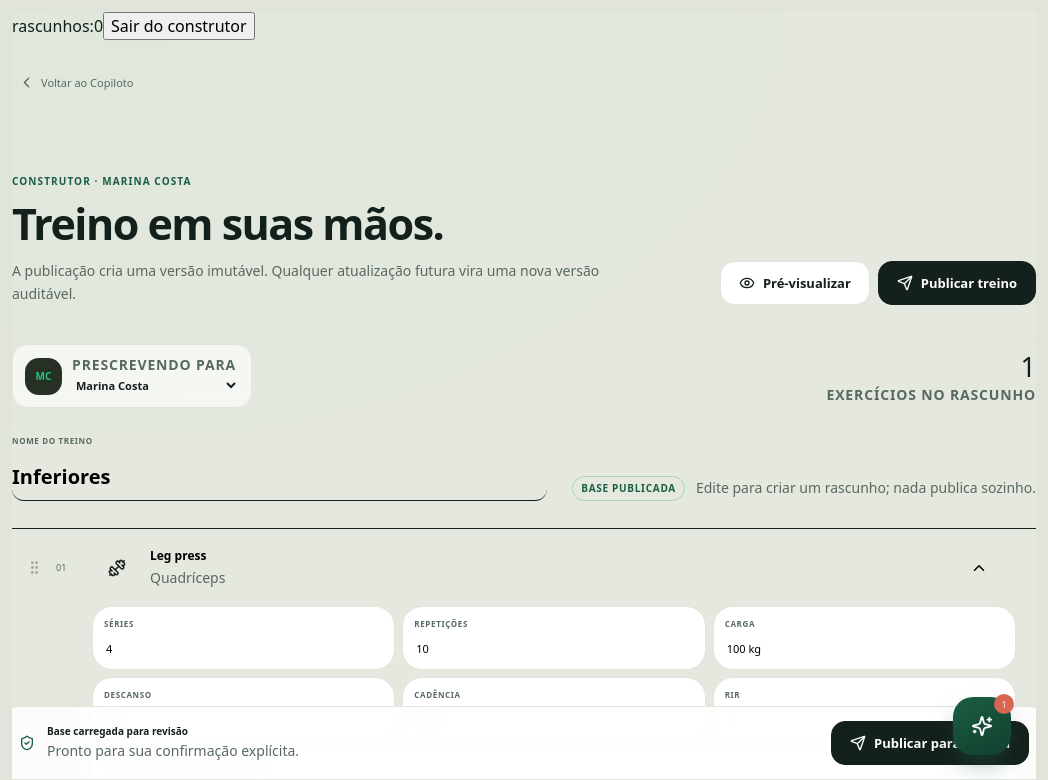
Test: live workout builder copilot › keeps independent drafts while the trainer switches between students
Replace the text in the field labelled "Carga" with "82 kg" at (864, 648), box [725, 640, 1004, 657]
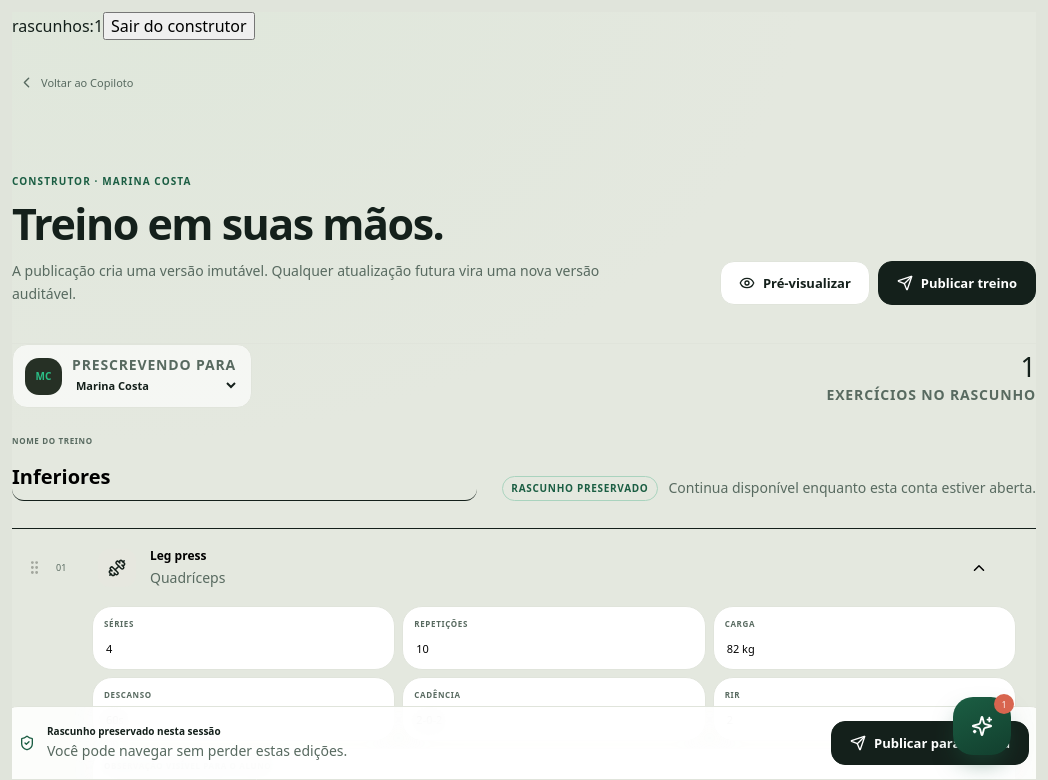
Select "Bianca Souza" in the dropdown at (156, 386), box [72, 374, 239, 397]
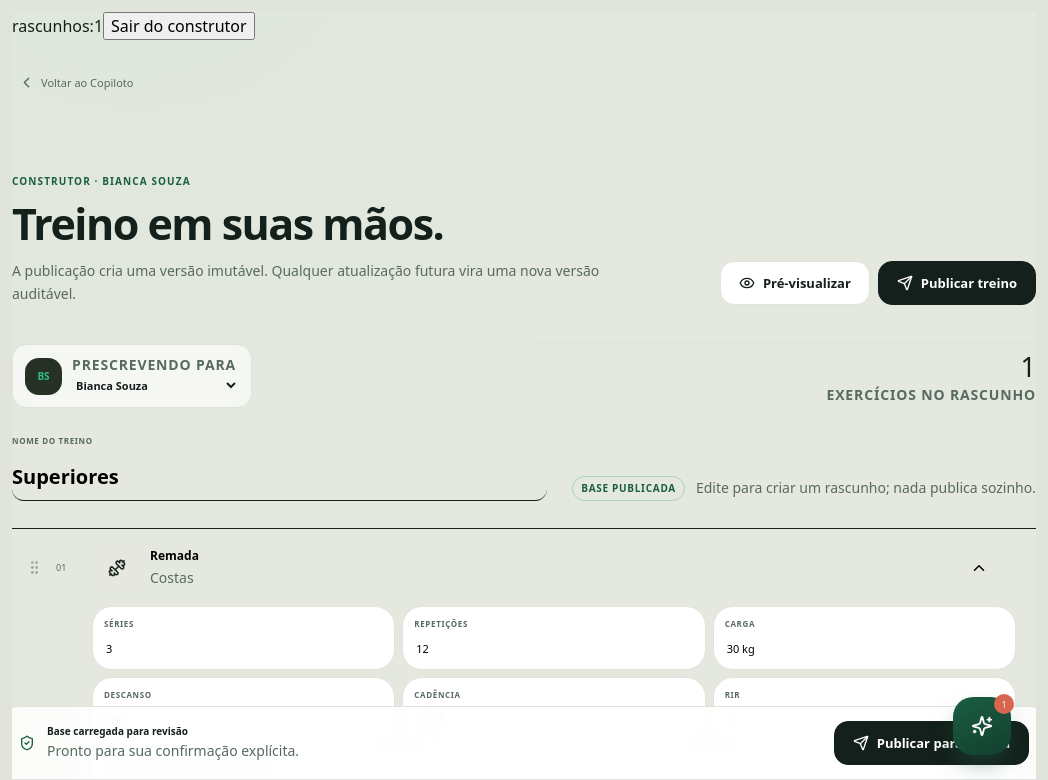
expect the field showing "30 kg" is shown: met
Replace the text in the field labelled "Carga" with "24 kg" at (864, 648), box [725, 640, 1004, 657]
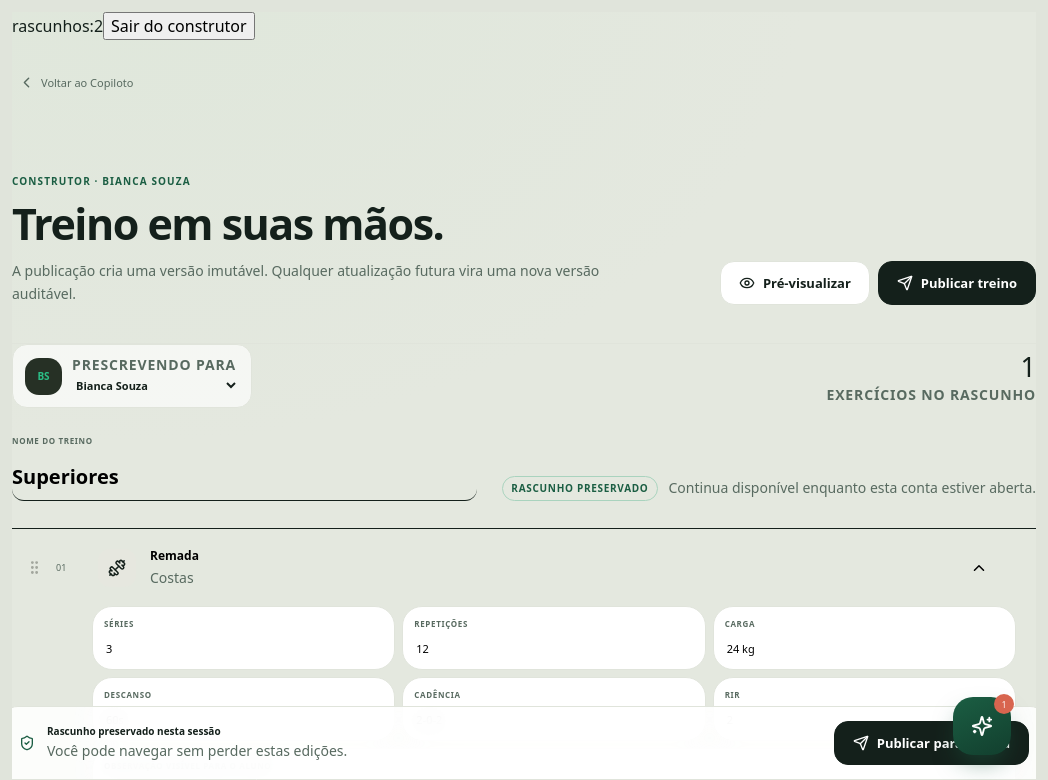
expect the text "rascunhos:2" is shown: met, box [12, 15, 103, 37]
Select "Marina Costa" in the dropdown at (156, 386), box [72, 374, 239, 397]
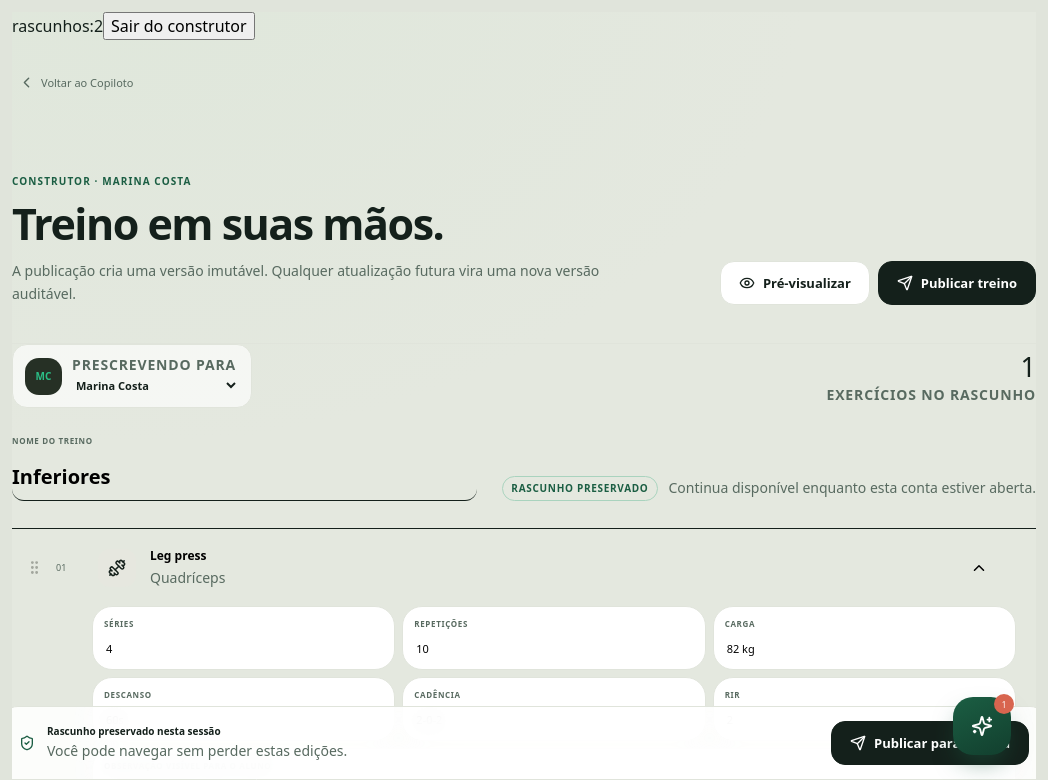
expect the field showing "82 kg" is shown: met, box [725, 640, 1004, 657]
Select "Bianca Souza" in the dropdown at (156, 386), box [72, 374, 239, 397]
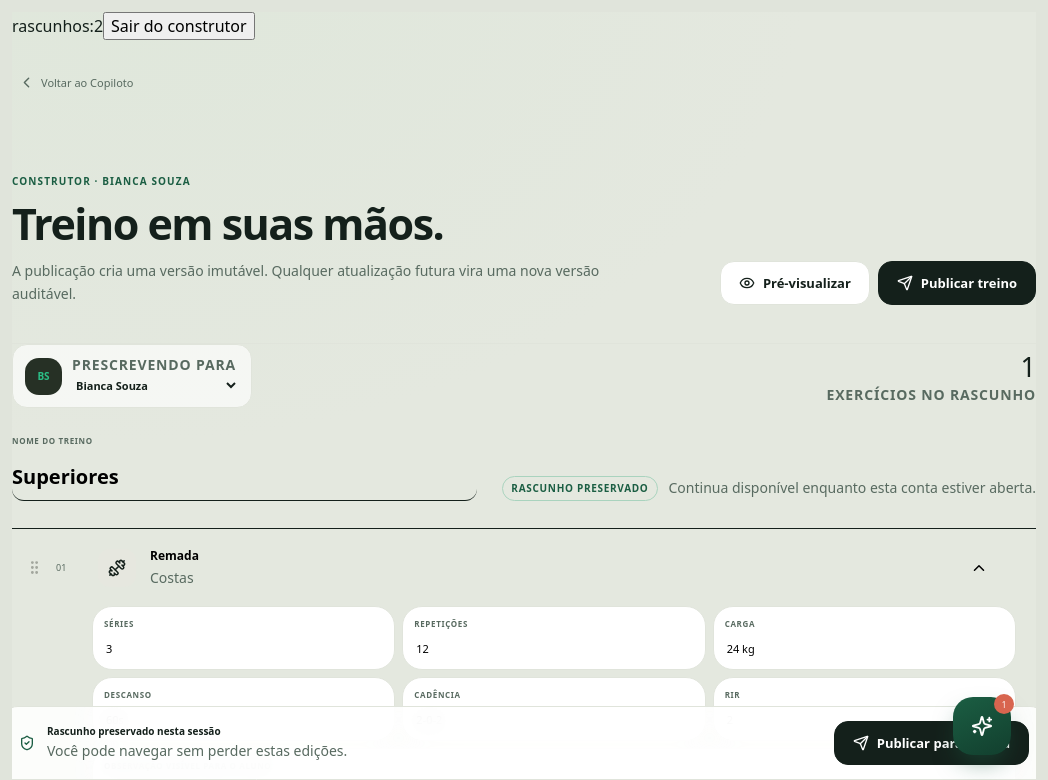
expect the field showing "24 kg" is shown: met, box [725, 640, 1004, 657]
